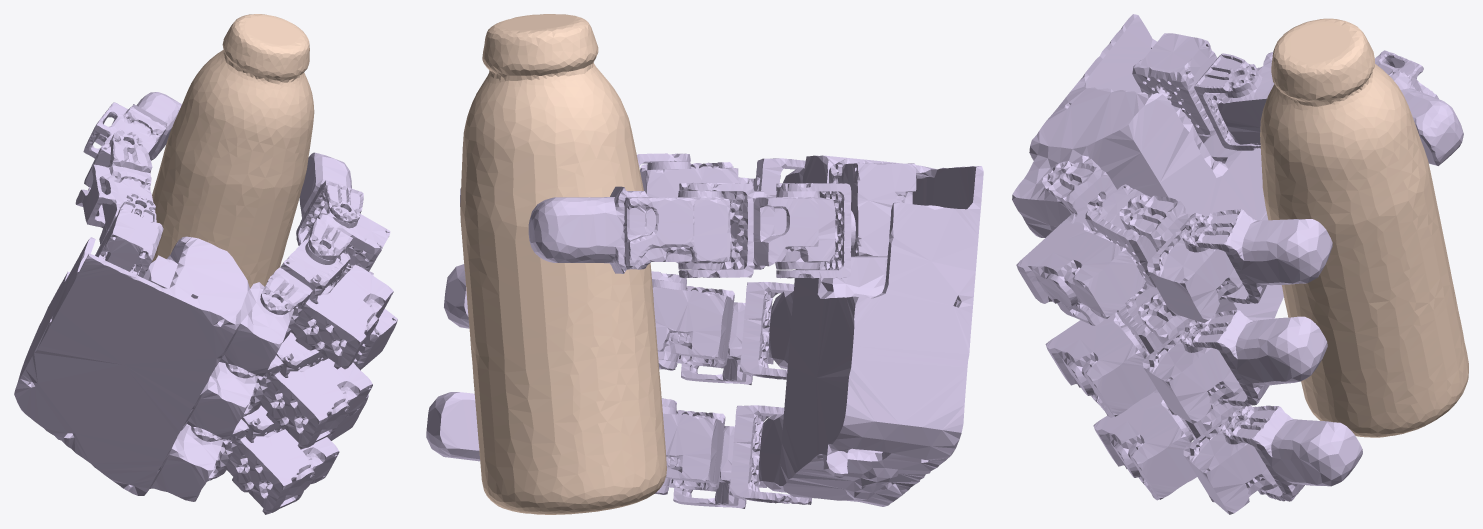
File: 87eaa4fd585048-final.glb
3 renders of one model, left to right at view 1: azimuth 30°, elevation 25°; view 2: azimuth 150°, elevation 25°; view 3: azimuth 270°, elevation 25°, orthographic. The views are drawn at different scales.
Parts seen in each view (by area): view 1: LEAP_hand, world; view 2: LEAP_hand, world; view 3: LEAP_hand, world.
Part boxes in pixels (bbox=[...]): LEAP_hand: bbox=[14, 92, 397, 514]; world: bbox=[151, 14, 314, 288]; LEAP_hand: bbox=[426, 153, 983, 508]; world: bbox=[460, 14, 666, 514]; LEAP_hand: bbox=[1012, 14, 1463, 514]; world: bbox=[1260, 18, 1468, 437].
Bounding box in the file's own units: 0.2051 × 0.2194 × 0.1849.
